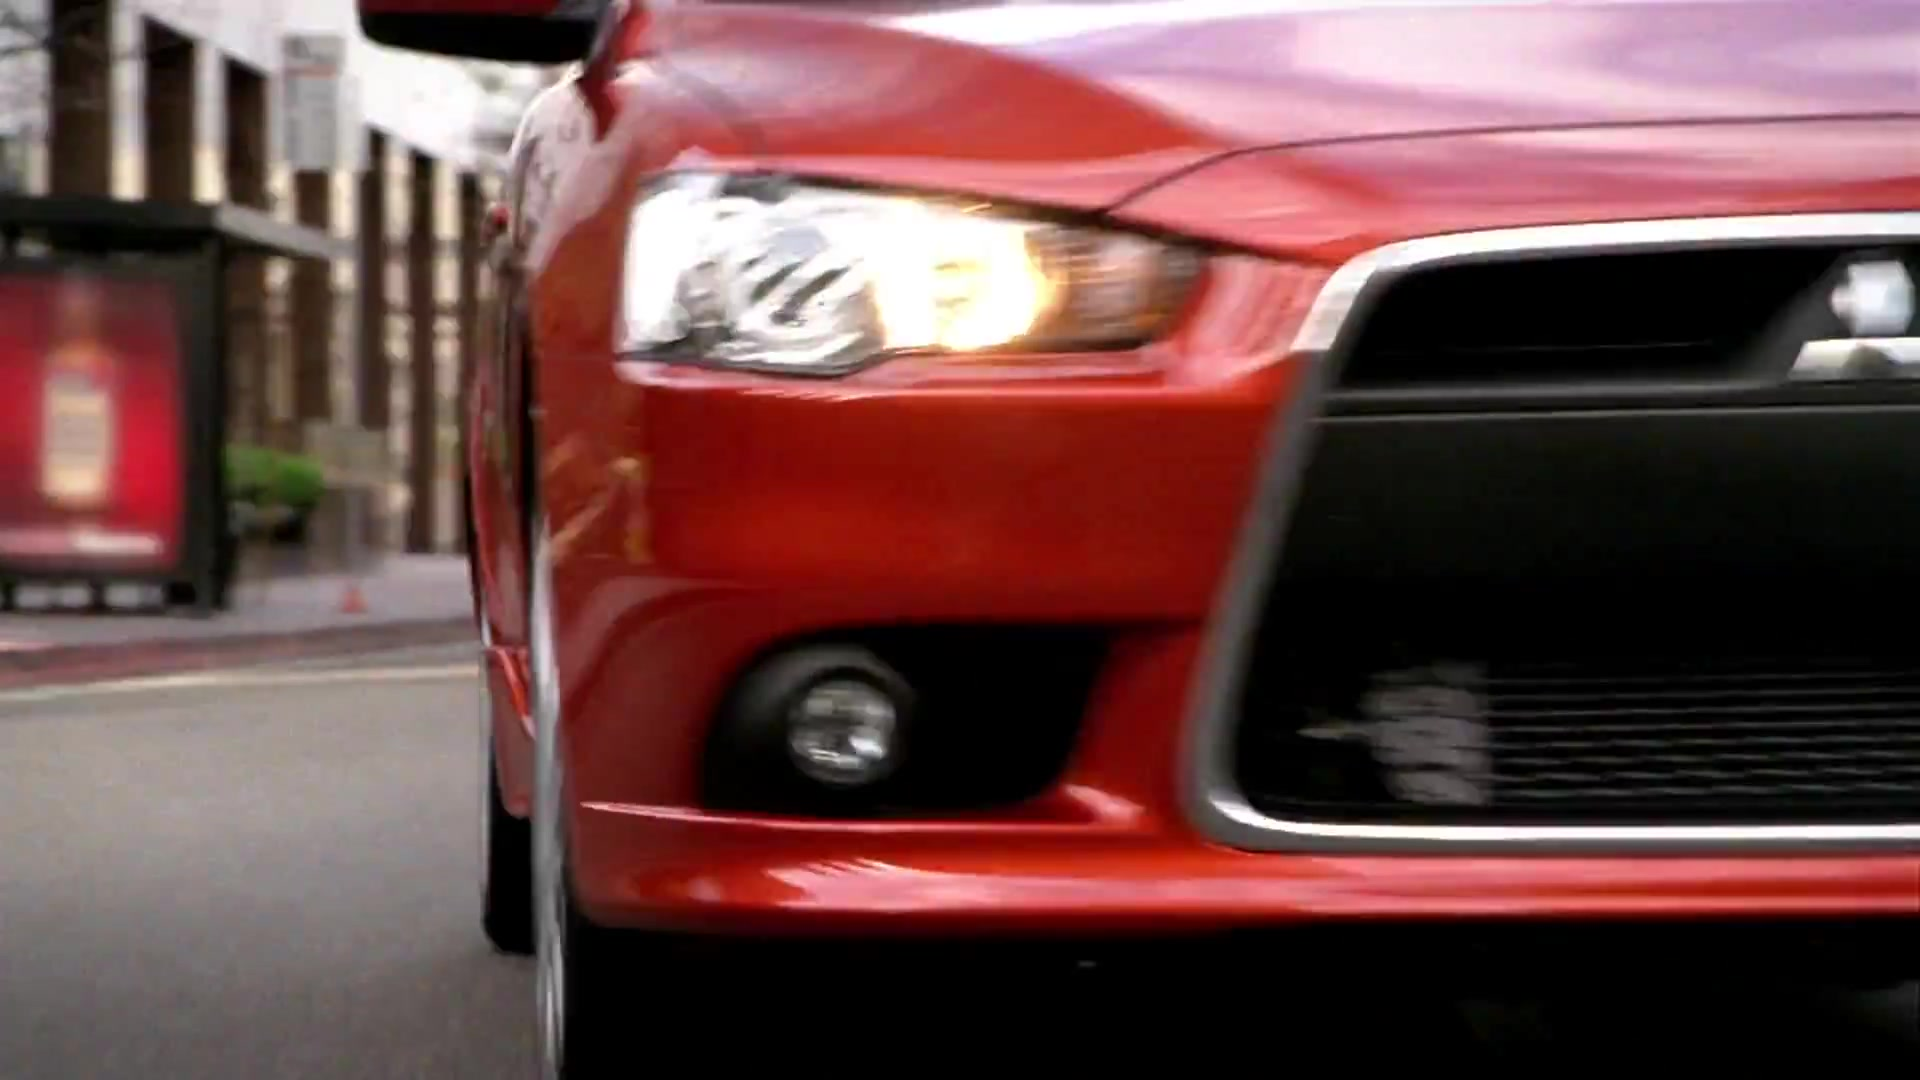car: (340, 1, 1920, 1080)
